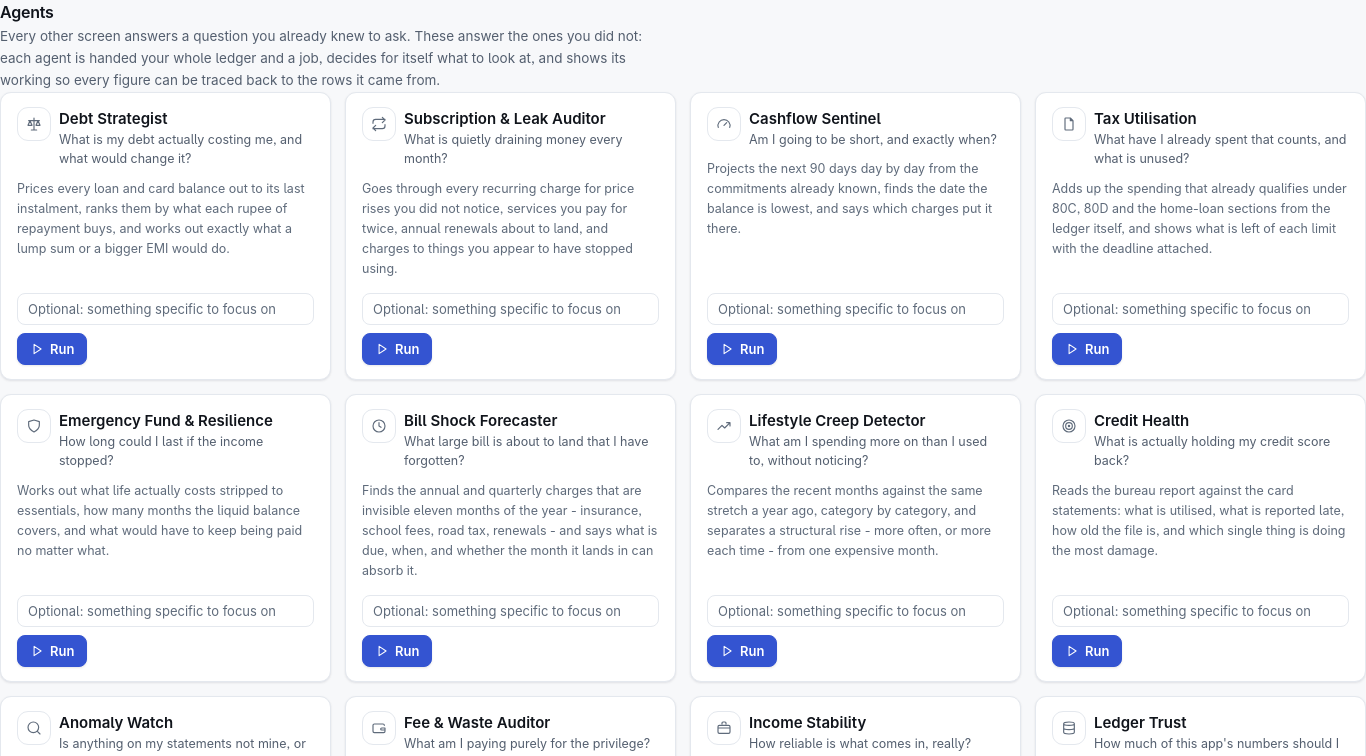
Test case: an agent answer › reports a failed run instead of an empty answer
Click the button "Run" below "Debt Strategist". click: (52, 349)
box: [17,333,87,365]
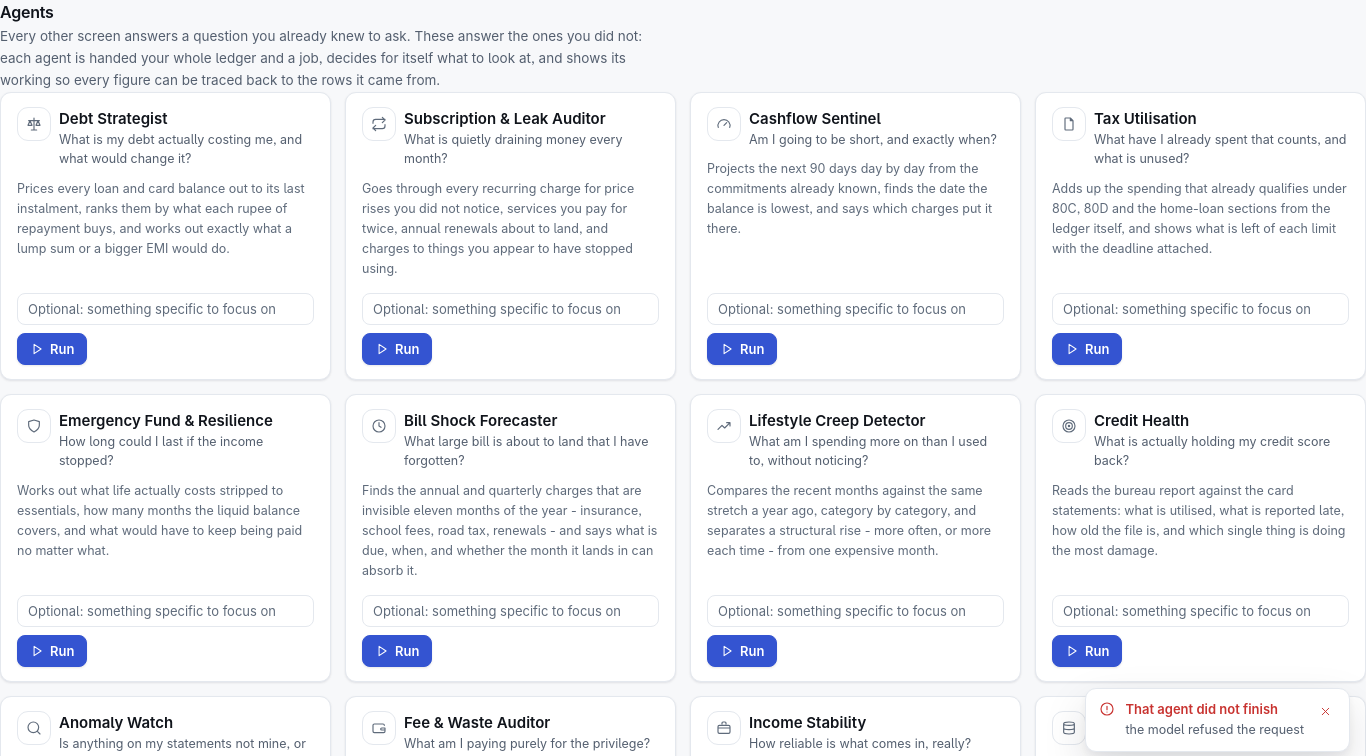
Result: the text "the model refused the request" is shown at [1125,721,1304,740]
